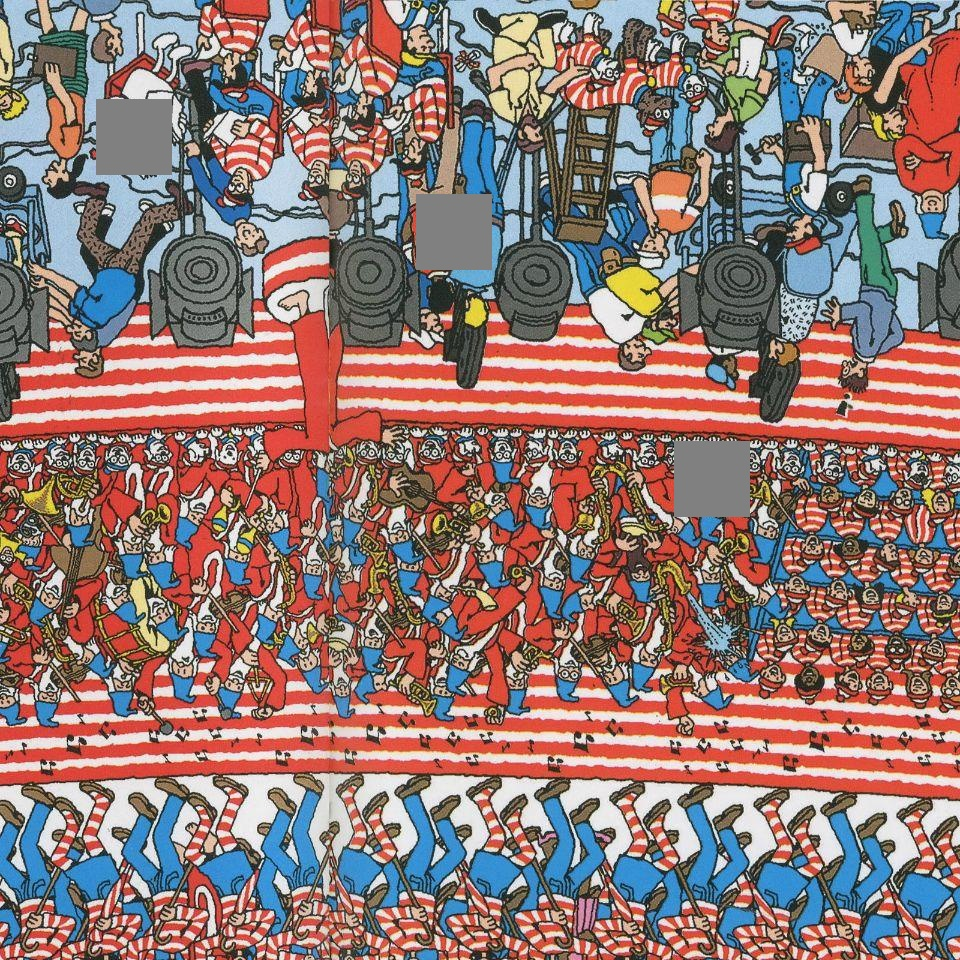waldo: (219, 101, 278, 210), (152, 892, 197, 960), (395, 895, 438, 960), (535, 896, 574, 960), (19, 897, 57, 960), (291, 894, 327, 960), (341, 149, 383, 204), (297, 128, 326, 207), (678, 908, 722, 960), (825, 907, 865, 960)
